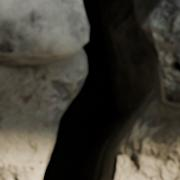broken_brick: (0, 0, 86, 42), (144, 0, 179, 93), (0, 41, 74, 65), (158, 94, 179, 109)
crack: (0, 0, 179, 179), (169, 60, 179, 72)
